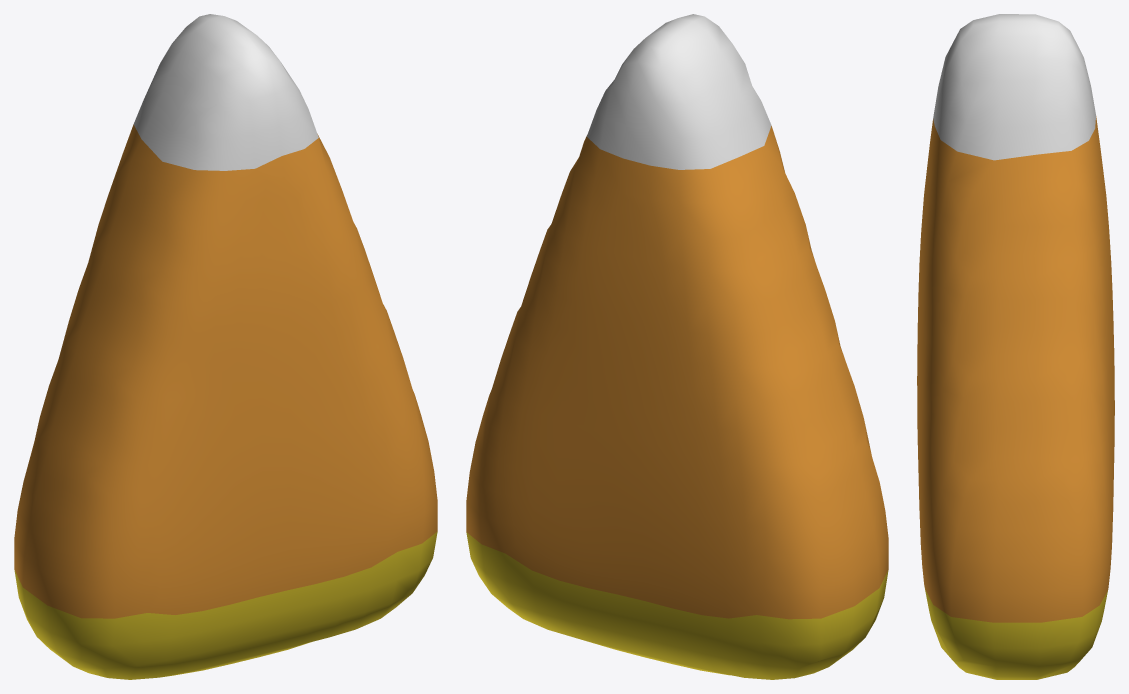
Rendered from CandyCorn.fbx.
3 views of the same model, side by side, from view 1: azimuth 30°, elevation 25°; view 2: azimuth 150°, elevation 25°; view 3: azimuth 270°, elevation 25° (orthographic). The views are drawn at different scales.
Visible parts, largest first — view 1: Circle; view 2: Circle; view 3: Circle.
Part boxes in pixels (x1,y1,x2,y2): Circle: (14, 14, 437, 679); Circle: (466, 14, 888, 679); Circle: (917, 14, 1114, 679).
Bounding box in the file's own units: 133 × 209 × 61.17.
